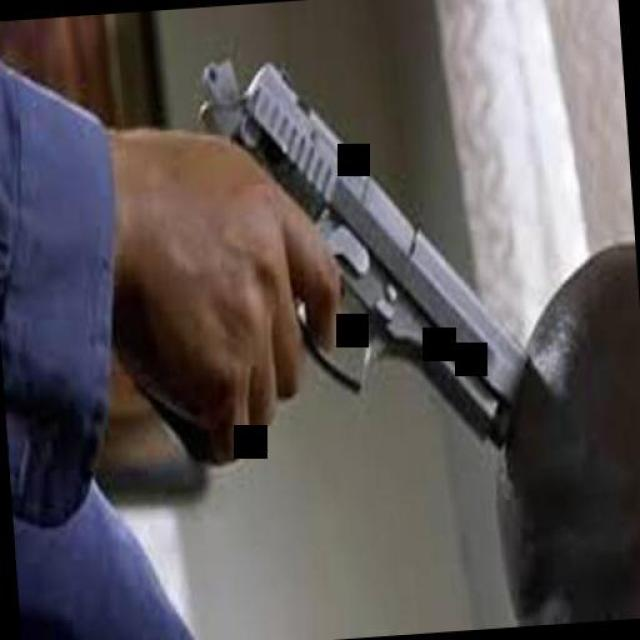gun: (133, 31, 525, 472)
